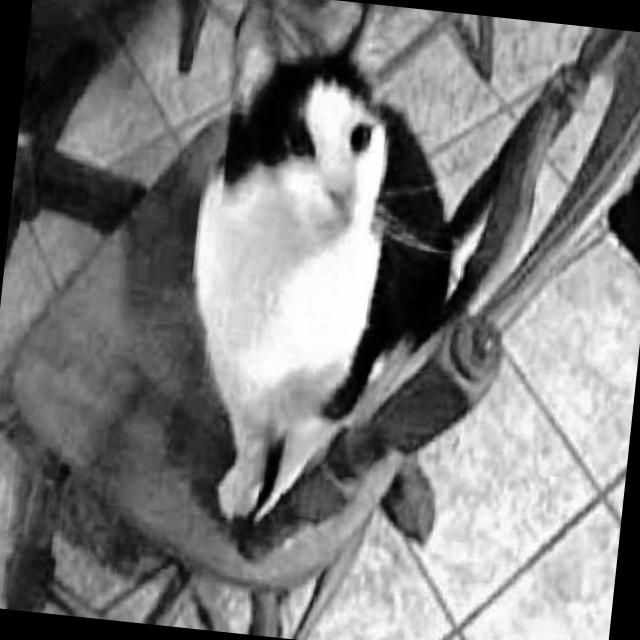Cat: (162, 0, 485, 555)
